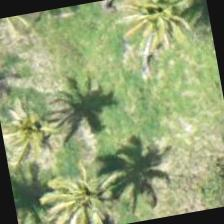Kelapa_Sawit: (40, 145, 144, 223), (0, 77, 78, 178), (108, 0, 208, 58), (0, 7, 72, 80)
